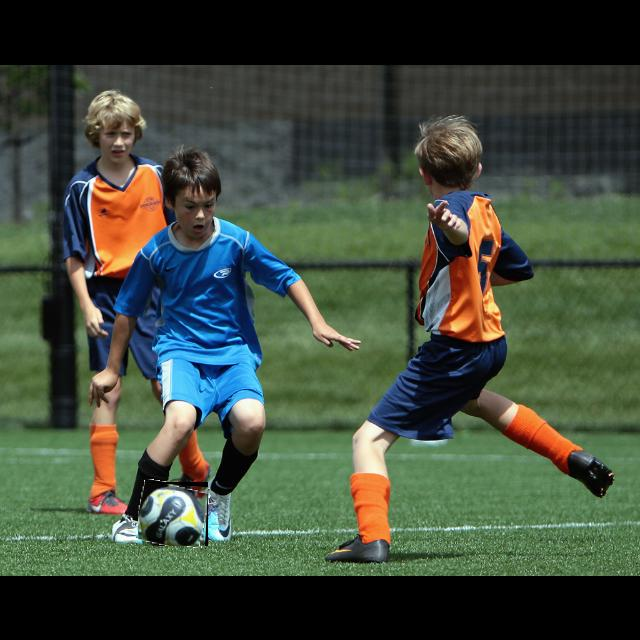Football: (138, 482, 208, 546)
